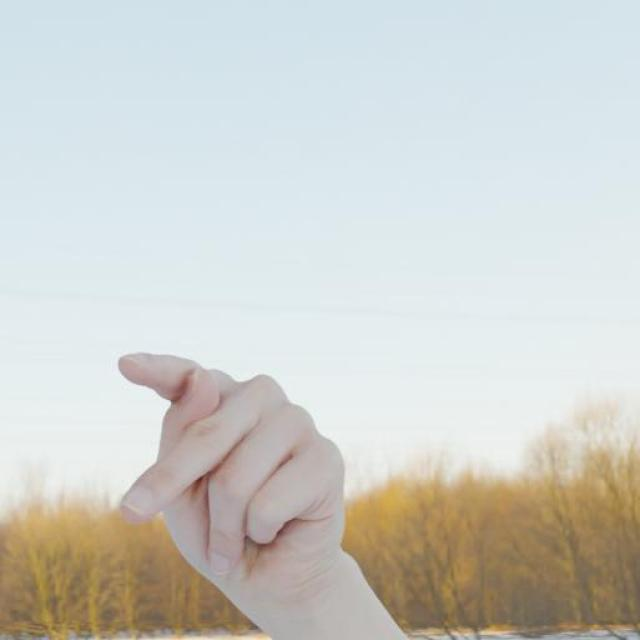P: (95, 336, 348, 618)
